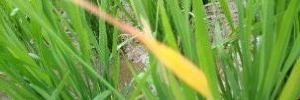RiceTungro: (122, 17, 215, 95)
